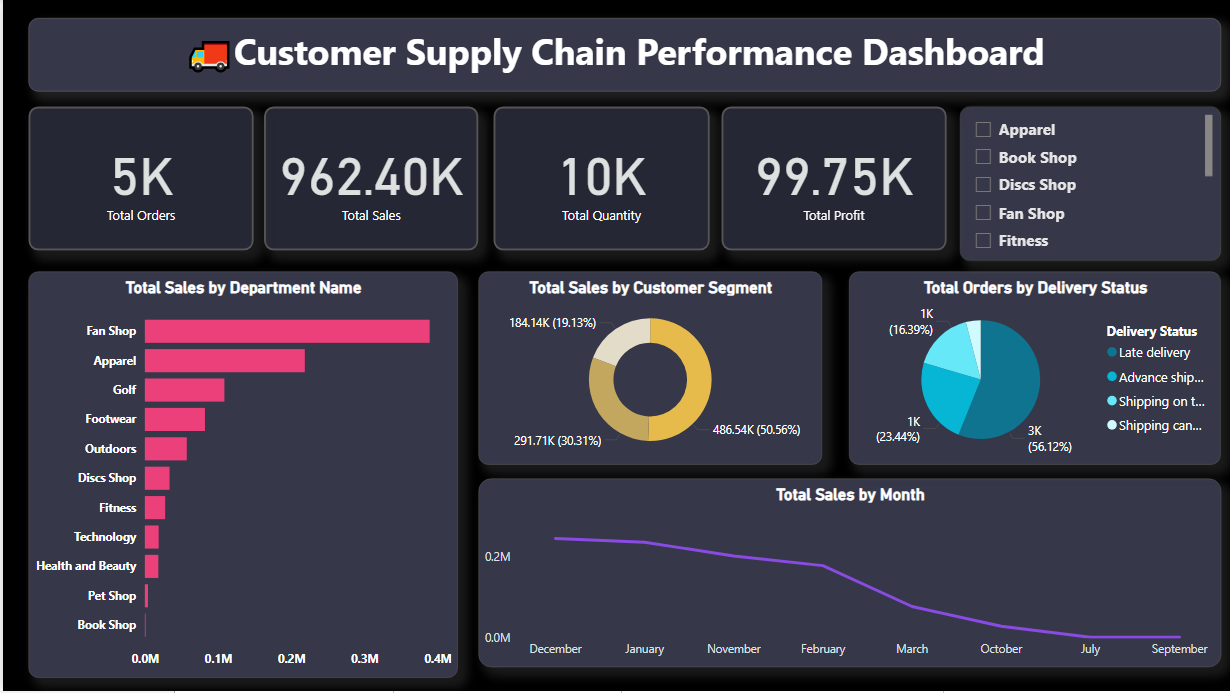

This screenshot's page, from the dashboard's own definition file:
{"tool":"powerbi","page":{"name":"Executive Overview","canvas":[1280,720],"ordinal":0},"visuals":[{"type":"card","fields":{"Values":["SupplyChain-Data.Total Sales"]},"box":[272,111,223.5,150],"z":0},{"type":"donutChart","fields":{"Category":["SupplyChain-Data.Customer Segment"],"Y":["SupplyChain-Data.Total Sales"]},"box":[495.5,282.9,357.9,201.6],"z":1000},{"type":"clusteredBarChart","fields":{"Category":["SupplyChain-Data.Department Name"],"Y":["SupplyChain-Data.Total Sales"]},"box":[26.6,282.9,447,423.6],"z":2000},{"type":"lineChart","fields":{"Y":["SupplyChain-Data.Total Sales"],"Category":["Date Table.Month"]},"box":[495.5,498.6,773.7,196.9],"z":3000},{"type":"pieChart","fields":{"Category":["SupplyChain-Data.Delivery Status"],"Y":["SupplyChain-Data.Total Orders"]},"box":[881.5,282.9,387.6,201.6],"z":4000},{"type":"slicer","fields":{"Values":["SupplyChain-Data.Department Name"]},"box":[997.2,111,272,161],"z":5000},{"type":"card","fields":{"Values":["SupplyChain-Data.Total Quantity"]},"box":[511.1,111,225.1,150],"z":6000},{"type":"card","fields":{"Values":["SupplyChain-Data.Total Profit"]},"box":[748.7,111,234.4,150],"z":7000},{"type":"card","fields":{"Values":["SupplyChain-Data.Total Orders"]},"box":[26.6,111,234.4,150],"z":8000},{"type":"textbox","box":[26.6,18.8,1242.6,76.6],"z":8001}]}

Visuals, with their boxes in screenshot pixels (x1, y1, x2, y2), scaled from the page's 1280x720 canvas onto the 1230x693 screenshot:
card - SupplyChain-Data.Total Sales: x1=261 y1=107 x2=476 y2=251
donutChart - SupplyChain-Data.Customer Segment x SupplyChain-Data.Total Sales: x1=476 y1=272 x2=820 y2=466
clusteredBarChart - SupplyChain-Data.Department Name x SupplyChain-Data.Total Sales: x1=26 y1=272 x2=455 y2=680
lineChart - SupplyChain-Data.Total Sales x Date Table.Month: x1=476 y1=480 x2=1220 y2=669
pieChart - SupplyChain-Data.Delivery Status x SupplyChain-Data.Total Orders: x1=847 y1=272 x2=1220 y2=466
slicer - SupplyChain-Data.Department Name: x1=958 y1=107 x2=1220 y2=262
card - SupplyChain-Data.Total Quantity: x1=491 y1=107 x2=707 y2=251
card - SupplyChain-Data.Total Profit: x1=719 y1=107 x2=945 y2=251
card - SupplyChain-Data.Total Orders: x1=26 y1=107 x2=251 y2=251
textbox: x1=26 y1=18 x2=1220 y2=92
